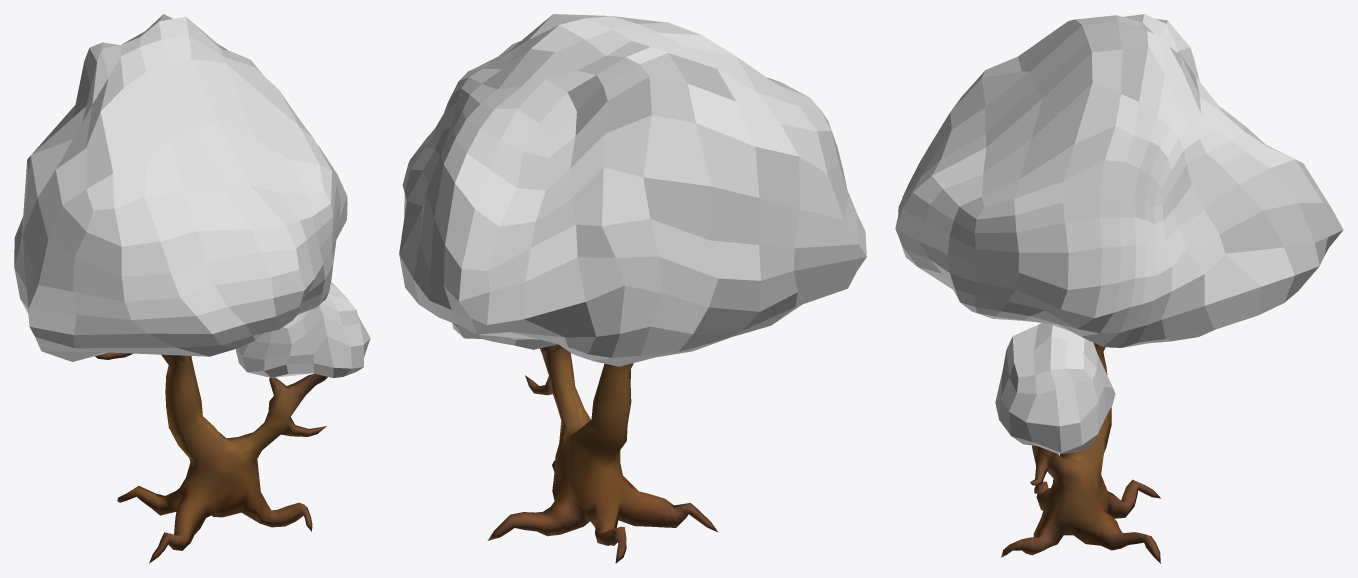
The model's file is Tree1.fbx.
3 views of the same model, side by side, from view 1: azimuth 30°, elevation 25°; view 2: azimuth 150°, elevation 25°; view 3: azimuth 270°, elevation 25° (orthographic). The views are drawn at different scales.
Visible parts, largest first — view 1: Leaves, TreeTrunk, Leaves.001; view 2: Leaves, TreeTrunk, Leaves.001; view 3: Leaves, Leaves.001, TreeTrunk.
Boxes of the visible parts, x1=… form: Leaves: x1=14, y1=14, x2=347, y2=361; TreeTrunk: x1=95, y1=352, x2=327, y2=563; Leaves.001: x1=235, y1=282, x2=370, y2=378; Leaves: x1=399, y1=14, x2=866, y2=366; TreeTrunk: x1=487, y1=344, x2=717, y2=563; Leaves.001: x1=452, y1=323, x2=557, y2=349; Leaves: x1=895, y1=14, x2=1343, y2=347; Leaves.001: x1=995, y1=323, x2=1115, y2=453; TreeTrunk: x1=1001, y1=343, x2=1160, y2=563.
Size of the model in its own units: 1349 by 1756 by 1440.
1 material, 1 textured.
